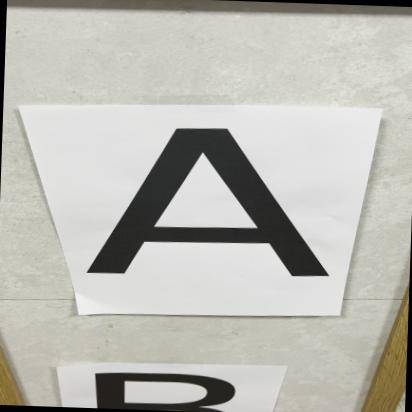seat: (80, 115, 340, 294)
